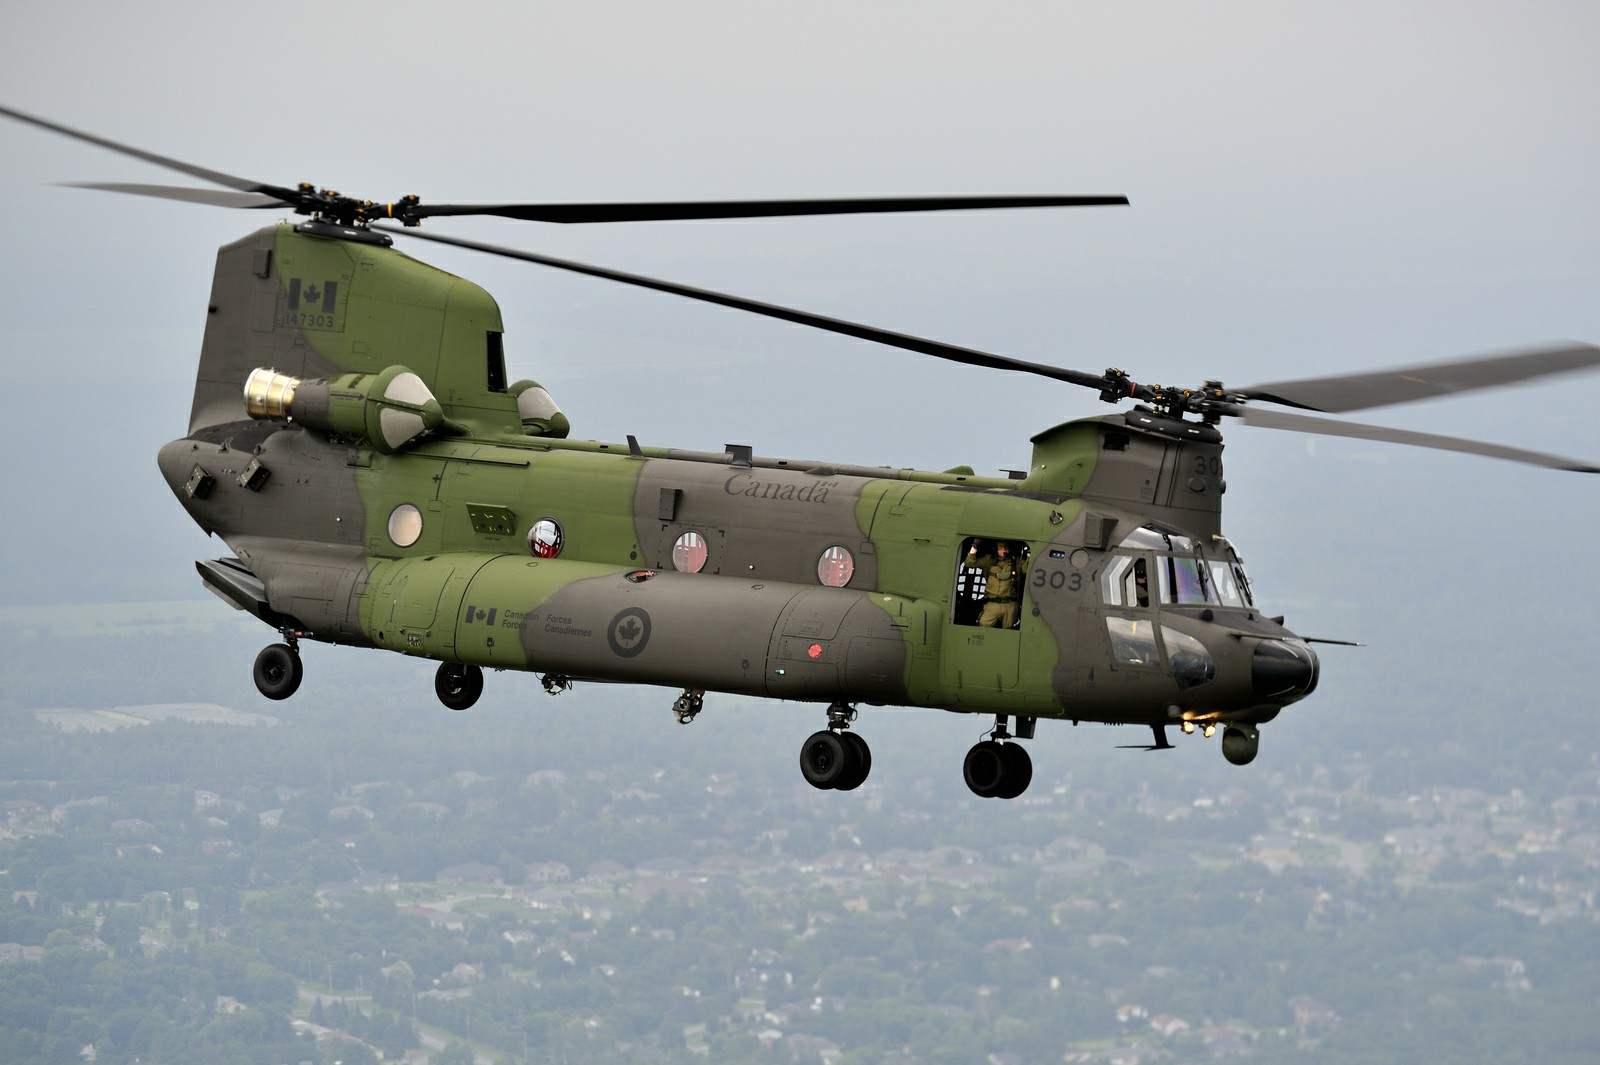chinook: (43, 124, 1503, 819)
